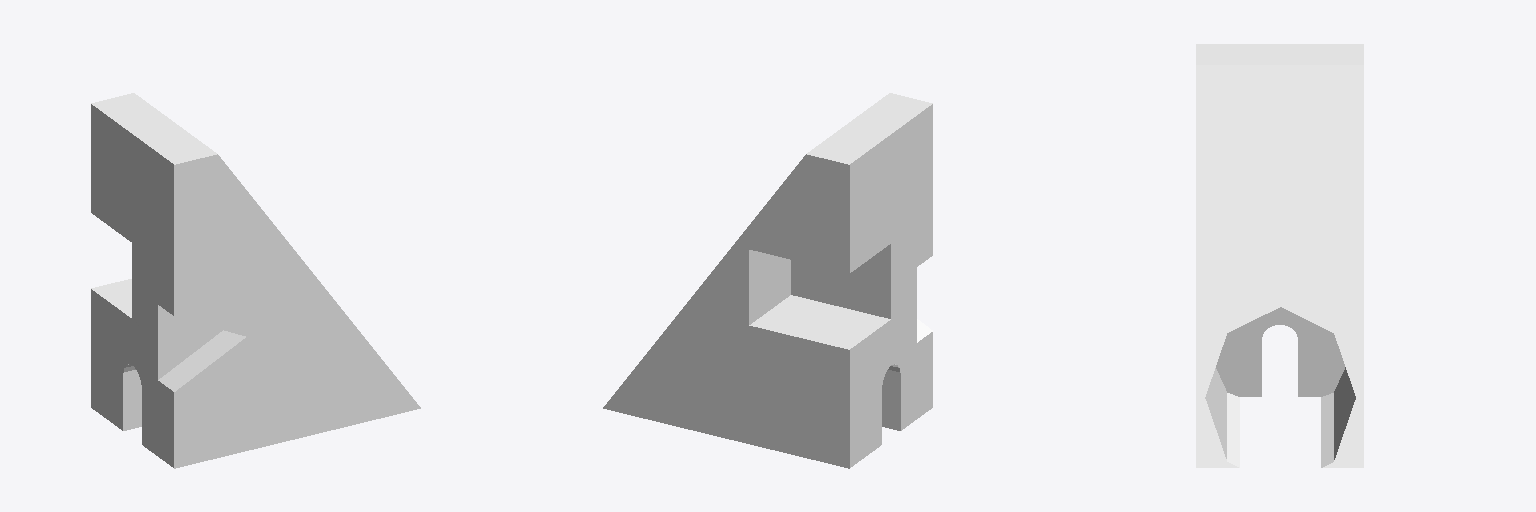
The model's file is MarqueurEnCm.obj.
3 views of the same model, side by side, from view 1: azimuth 30°, elevation 25°; view 2: azimuth 150°, elevation 25°; view 3: azimuth 270°, elevation 25° (orthographic).
Visible parts, largest first — view 1: MarqueurEnCm; view 2: MarqueurEnCm; view 3: MarqueurEnCm.
Part boxes in pixels (x1,y1,x2,y2): MarqueurEnCm: (91,93,420,468); MarqueurEnCm: (603,93,932,468); MarqueurEnCm: (1196,44,1363,467).
Size of the model in its own units: 1.7 by 2 by 1.